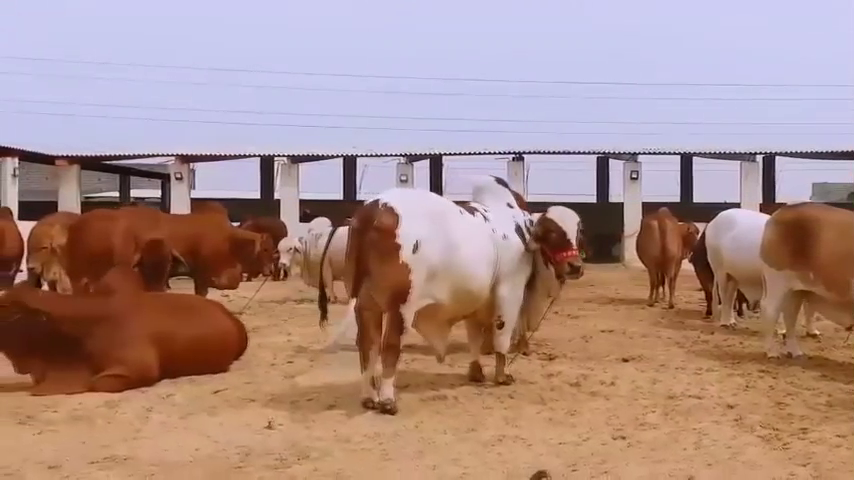bo: (338, 166, 590, 423), (3, 268, 262, 400), (694, 195, 831, 345), (757, 190, 854, 373), (159, 179, 275, 302), (68, 192, 178, 300), (620, 196, 700, 312), (273, 211, 348, 299), (27, 200, 79, 291)
